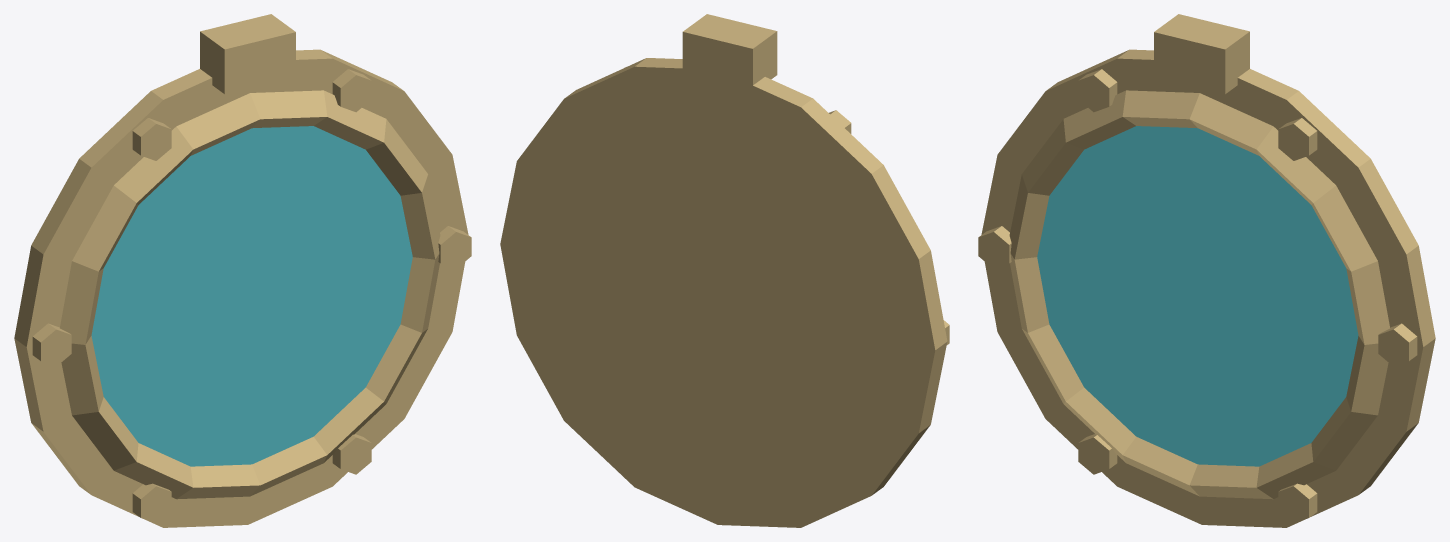
Rendered from kit_porthole.fbx.
3 renders of one model, left to right at view 1: azimuth 30°, elevation 25°; view 2: azimuth 150°, elevation 25°; view 3: azimuth 330°, elevation 25°, orthographic.
Visible parts, largest first — view 1: kit_porthole; view 2: kit_porthole; view 3: kit_porthole.
Part boxes in pixels (bbox=[...]): kit_porthole: bbox=[14, 14, 471, 527]; kit_porthole: bbox=[500, 14, 949, 527]; kit_porthole: bbox=[978, 14, 1435, 527].
Bounding box in the file's own units: 0.62 × 0.66 × 0.06.
